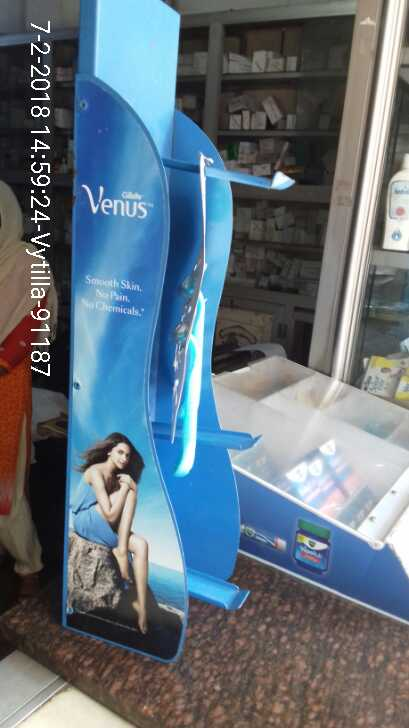reject: (90, 138, 209, 288)
